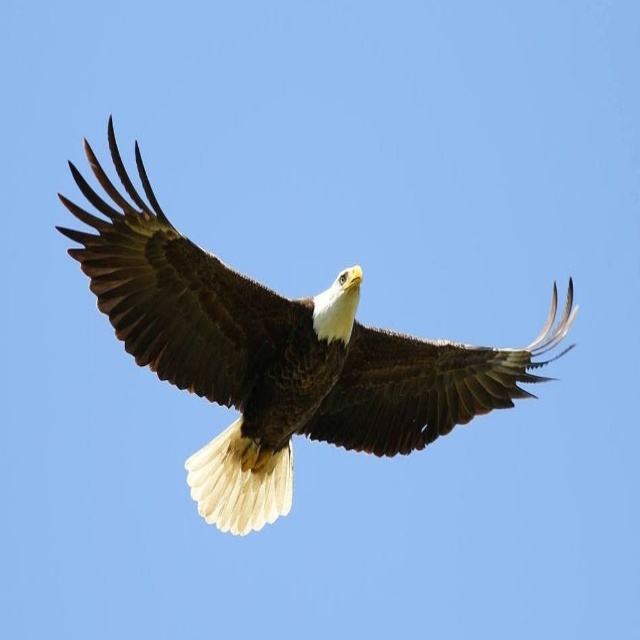Eagle: (54, 112, 580, 538)
